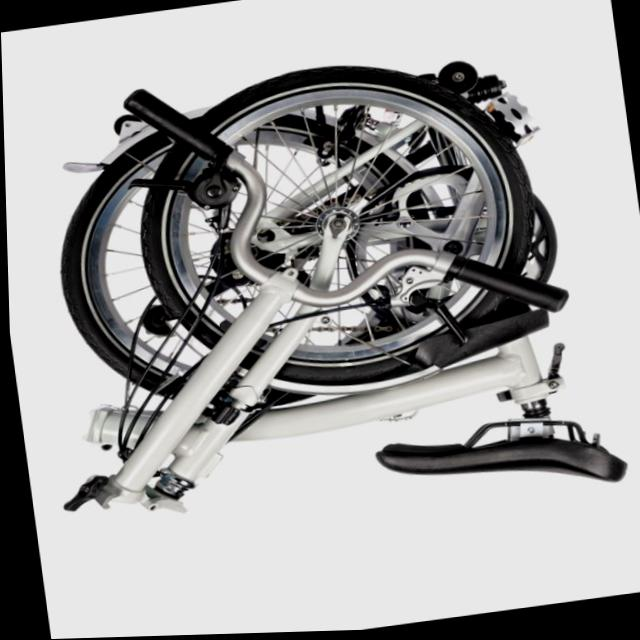folding-bike: (4, 29, 630, 561)
